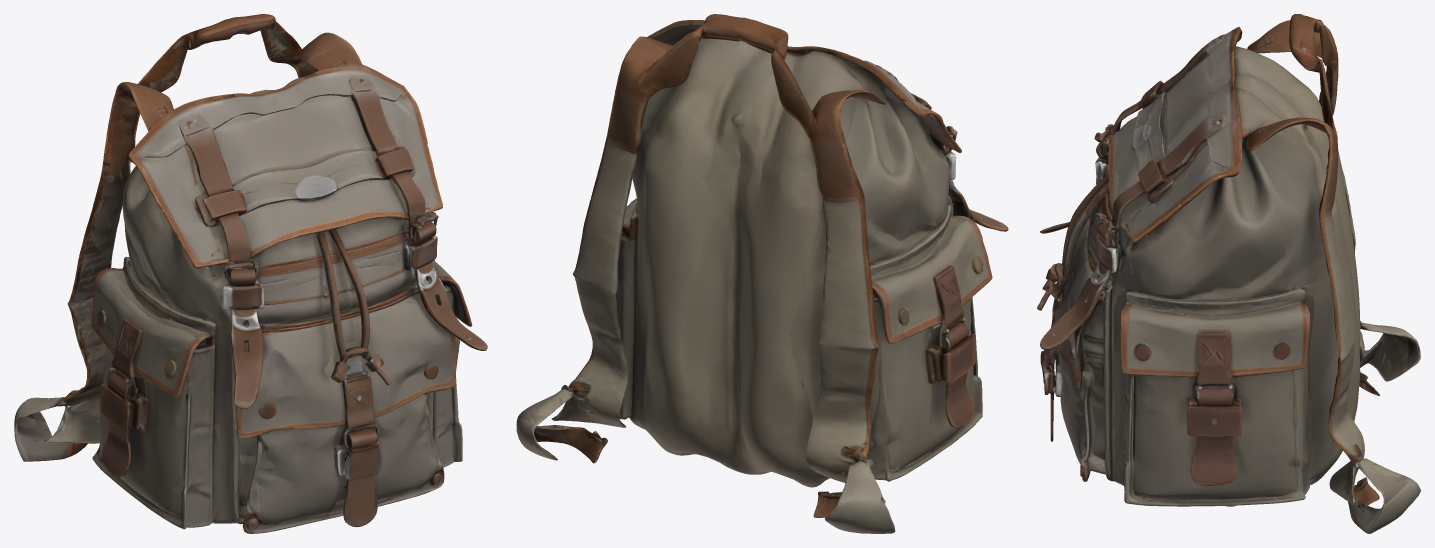
File: backpack_3d_model.glb
3 renders of one model, left to right at view 1: azimuth 30°, elevation 25°; view 2: azimuth 150°, elevation 25°; view 3: azimuth 270°, elevation 25°, orthographic. The views are drawn at different scales.
Visible parts, largest first — view 1: backpack; view 2: backpack; view 3: backpack.
Part boxes in pixels (x1,y1,x2,y2): backpack: [14, 14, 487, 533]; backpack: [516, 14, 1008, 533]; backpack: [1037, 14, 1420, 533].
Bounding box in the file's own units: 1.62 × 1.9 × 1.51.
Materials: 1 (1 with a texture image).
